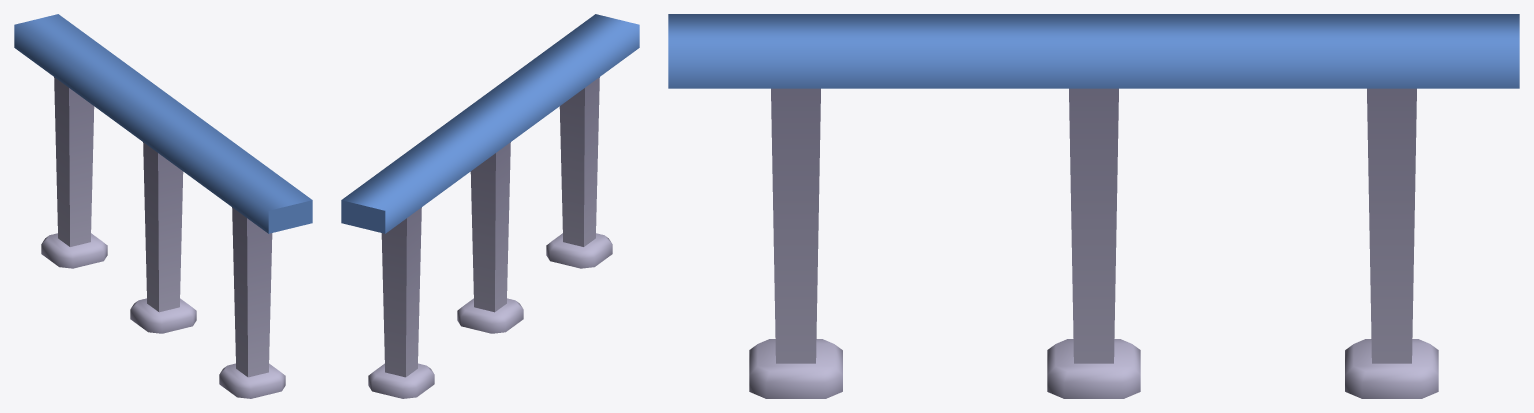
Rendered from kenney-mini-skate-rail-high-d9bda5-598007fe.glb.
3 renders of one model, left to right at view 1: azimuth 30°, elevation 25°; view 2: azimuth 150°, elevation 25°; view 3: azimuth 270°, elevation 25°, orthographic. The views are drawn at different scales.
Parts seen in each view (by area): view 1: rail-high; view 2: rail-high; view 3: rail-high.
Part boxes in pixels (<box>): rail-high: <box>14,14,312,398</box>; rail-high: <box>341,14,639,398</box>; rail-high: <box>668,14,1519,398</box>.
Bounding box in the file's own units: 0.11 × 0.45 × 1.
1 material, 1 textured.
